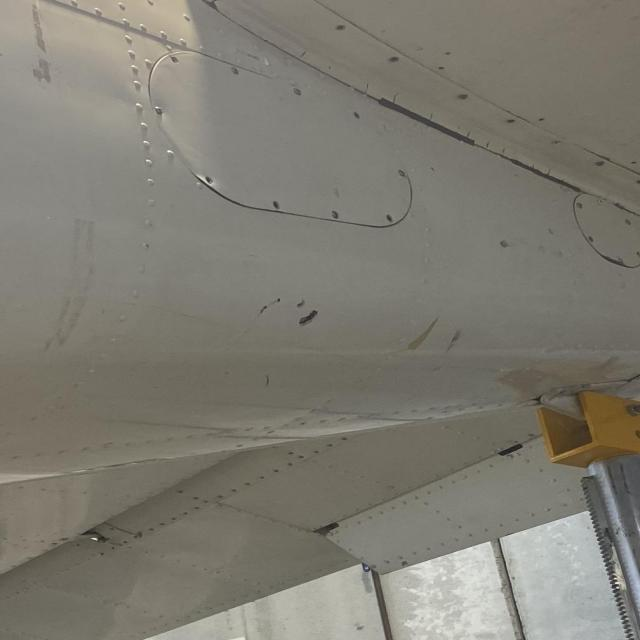Missing-head: (170, 56, 180, 65), (353, 110, 361, 121), (205, 175, 214, 184), (272, 200, 279, 211), (390, 57, 399, 63), (386, 214, 393, 221), (507, 119, 515, 123)
